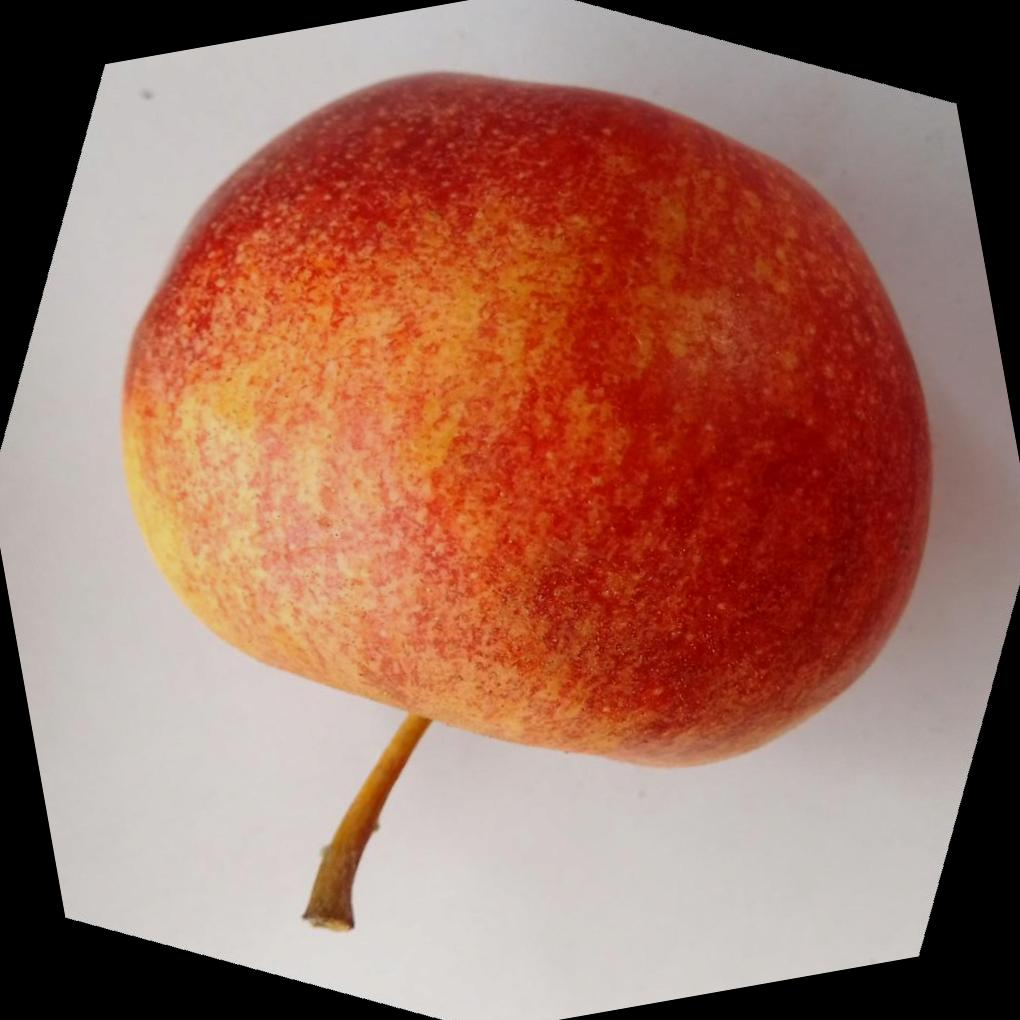FreshGuava: (115, 69, 932, 770)
